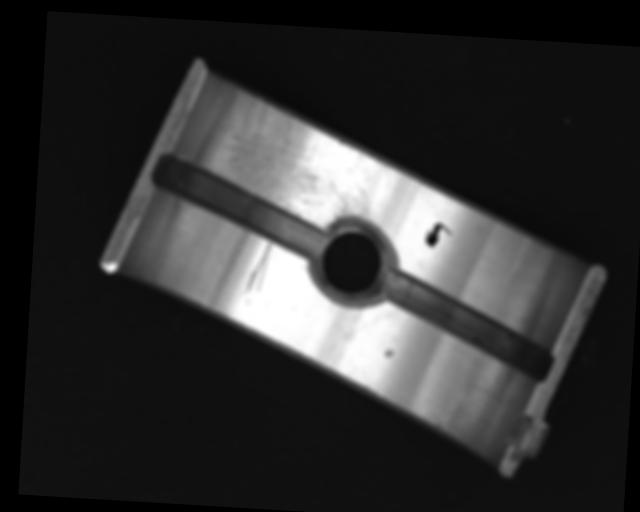blot: (424, 221, 453, 250)
bruise: (382, 347, 395, 358)
gap: (373, 267, 558, 381), (148, 154, 328, 257)
hole: (308, 214, 398, 305)
nick: (244, 238, 272, 295)
scratch: (219, 87, 388, 224)
